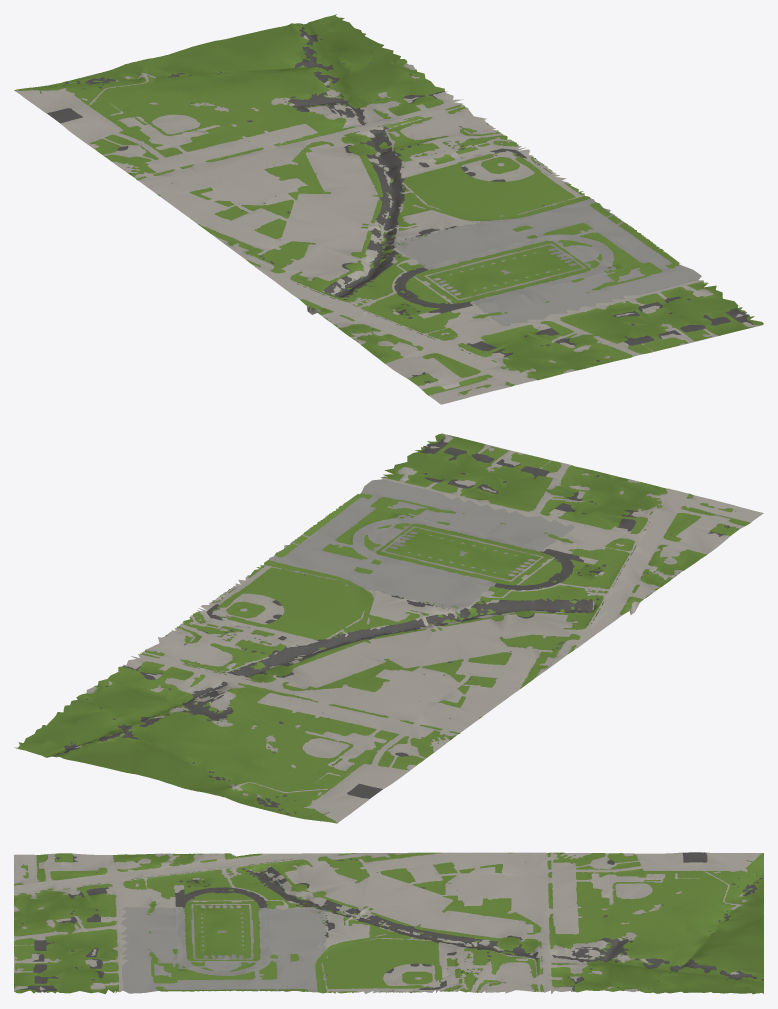
File: wmhs-v3-partA1-terrain-west-mobile.glb
The picture shows the model from 3 angles, top to bottom: view 1: azimuth 30°, elevation 25°; view 2: azimuth 150°, elevation 25°; view 3: azimuth 270°, elevation 25°; orthographic projection. The views are drawn at different scales.
Parts seen in each view (by area): view 1: Terrain_LiDAR05_West; view 2: Terrain_LiDAR05_West; view 3: Terrain_LiDAR05_West.
Part boxes in pixels (x1,y1,x2,y2): Terrain_LiDAR05_West: [14, 14, 763, 404]; Terrain_LiDAR05_West: [14, 433, 763, 823]; Terrain_LiDAR05_West: [14, 852, 763, 994].
Bounding box in the file's own units: 285 × 6.17 × 642.
5 materials, 5 textured.
